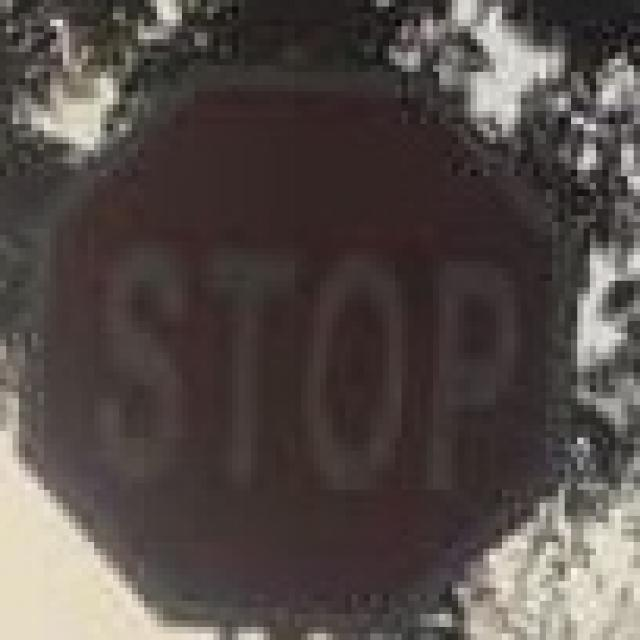stop: (42, 72, 584, 607)
